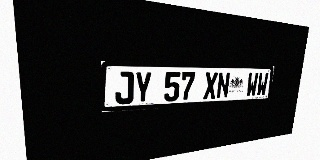5: (164, 72, 180, 102)
7: (179, 72, 195, 101)
J: (115, 71, 134, 105)
N: (216, 72, 230, 99)
W: (246, 72, 259, 97), (256, 72, 269, 96)
X: (203, 72, 218, 99)
Y: (134, 71, 152, 104)
